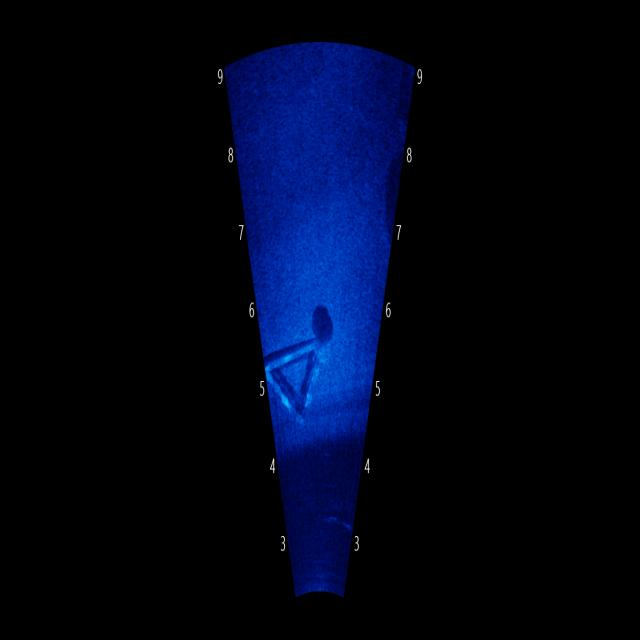triangle: (264, 284, 343, 427)
